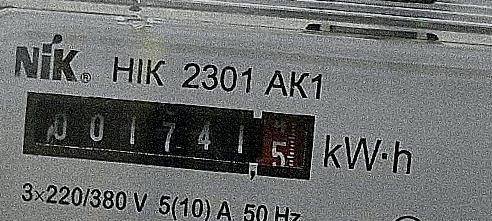0: (49, 108, 72, 143), (85, 109, 108, 144)
1: (121, 110, 142, 148), (231, 121, 249, 157)
4: (193, 116, 216, 153), (271, 116, 289, 136)
5: (267, 136, 289, 169)
7: (157, 117, 177, 154)
screen: (14, 79, 324, 191)
